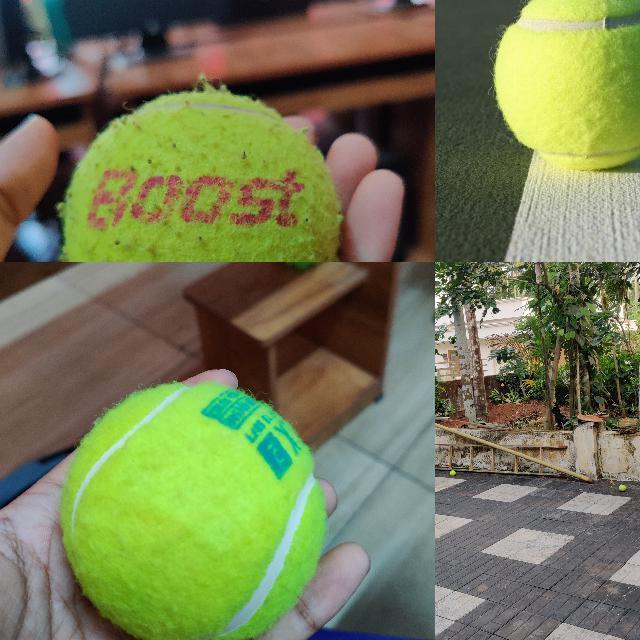tennis-ball: (60, 383, 326, 639), (61, 90, 340, 261), (493, 0, 639, 167), (619, 485, 626, 492), (449, 470, 455, 476)
